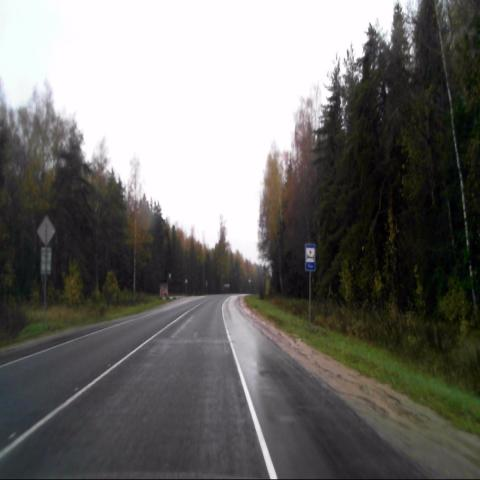7_2: (305, 244, 316, 272)
